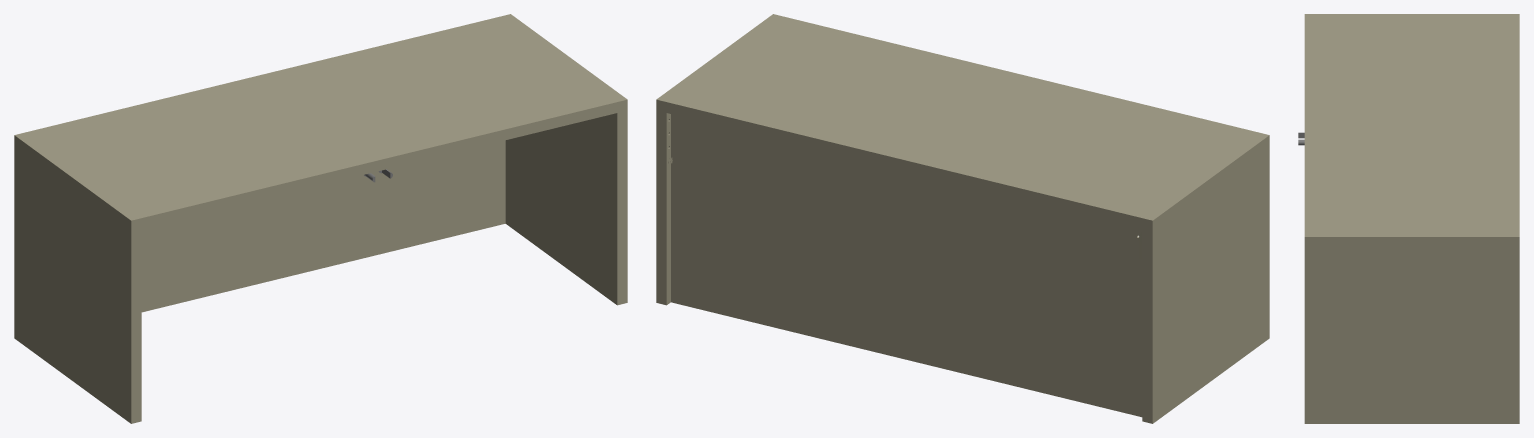
The model's file is Etapes_15_bis.glb.
3 renders of one model, left to right at view 1: azimuth 30°, elevation 25°; view 2: azimuth 150°, elevation 25°; view 3: azimuth 270°, elevation 25°, orthographic. The views are drawn at different scales.
Visible parts, largest first — view 1: Cube.001; view 2: Cube.001; view 3: Cube.001.
Part boxes in pixels (<box>): Cube.001: <box>14,14,627,423</box>; Cube.001: <box>656,14,1269,423</box>; Cube.001: <box>1298,14,1519,423</box>.
Size of the model in its own units: 0.76 by 0.2974 by 0.3192.
